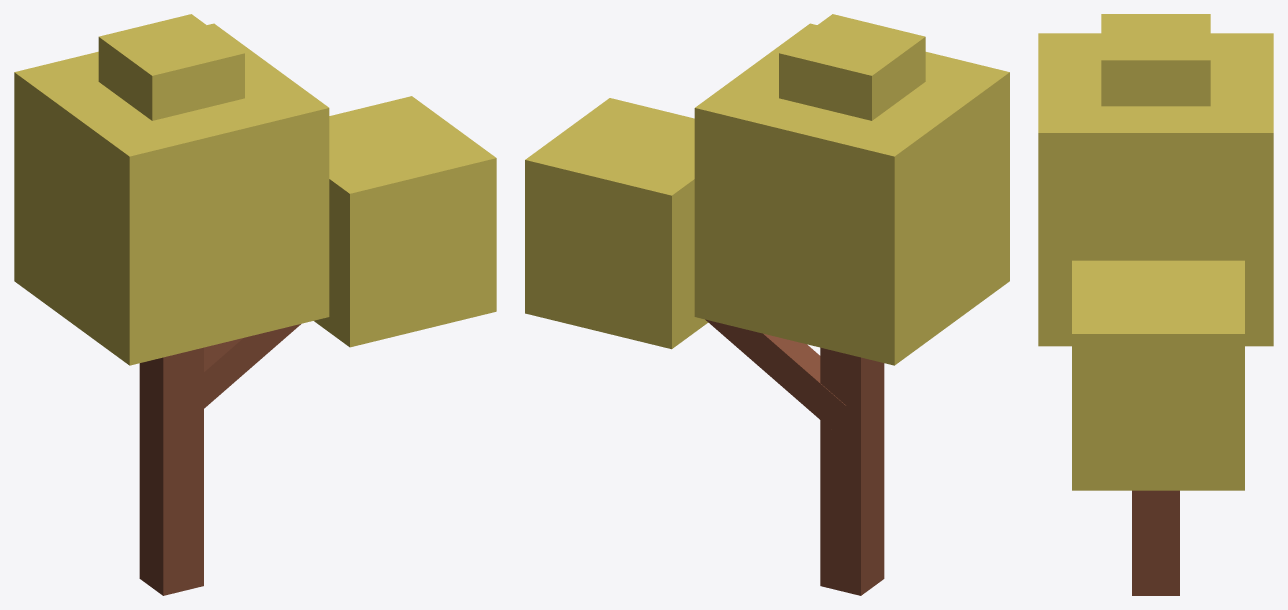
The model's file is Tree_48_autumn_mat.fbx.
3 views of the same model, side by side, from view 1: azimuth 30°, elevation 25°; view 2: azimuth 150°, elevation 25°; view 3: azimuth 270°, elevation 25° (orthographic). The views are drawn at different scales.
Visible parts, largest first — view 1: Tree_48_autumn_mat; view 2: Tree_48_autumn_mat; view 3: Tree_48_autumn_mat.
Boxes of the visible parts, x1,y1,x2,y2 form: Tree_48_autumn_mat: (14,14,496,595); Tree_48_autumn_mat: (525,14,1009,595); Tree_48_autumn_mat: (1038,14,1273,595).
Size of the model in its own units: 140 by 187 by 72.7.
